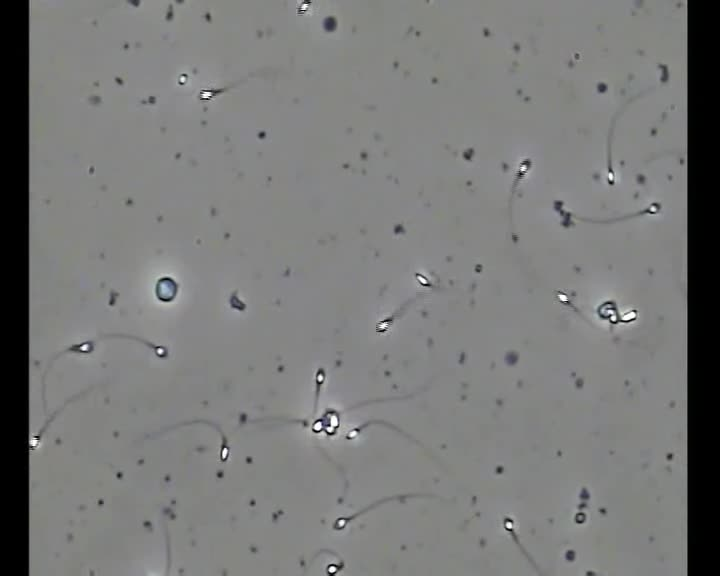spermhead: (155, 277, 178, 302), (322, 409, 340, 436), (596, 299, 617, 322), (68, 340, 95, 354), (228, 290, 246, 311), (218, 438, 230, 462), (415, 271, 432, 287), (517, 162, 532, 179), (326, 561, 343, 575), (558, 294, 575, 308), (381, 313, 394, 331), (619, 309, 637, 322), (198, 85, 218, 96), (314, 368, 326, 386), (333, 516, 348, 530), (311, 417, 324, 433), (561, 212, 574, 228), (503, 517, 515, 533), (645, 202, 660, 214), (153, 345, 167, 357), (177, 72, 189, 86), (28, 433, 39, 448), (298, 0, 313, 11), (573, 511, 585, 524), (606, 168, 615, 185), (345, 428, 358, 439), (553, 199, 564, 211)
